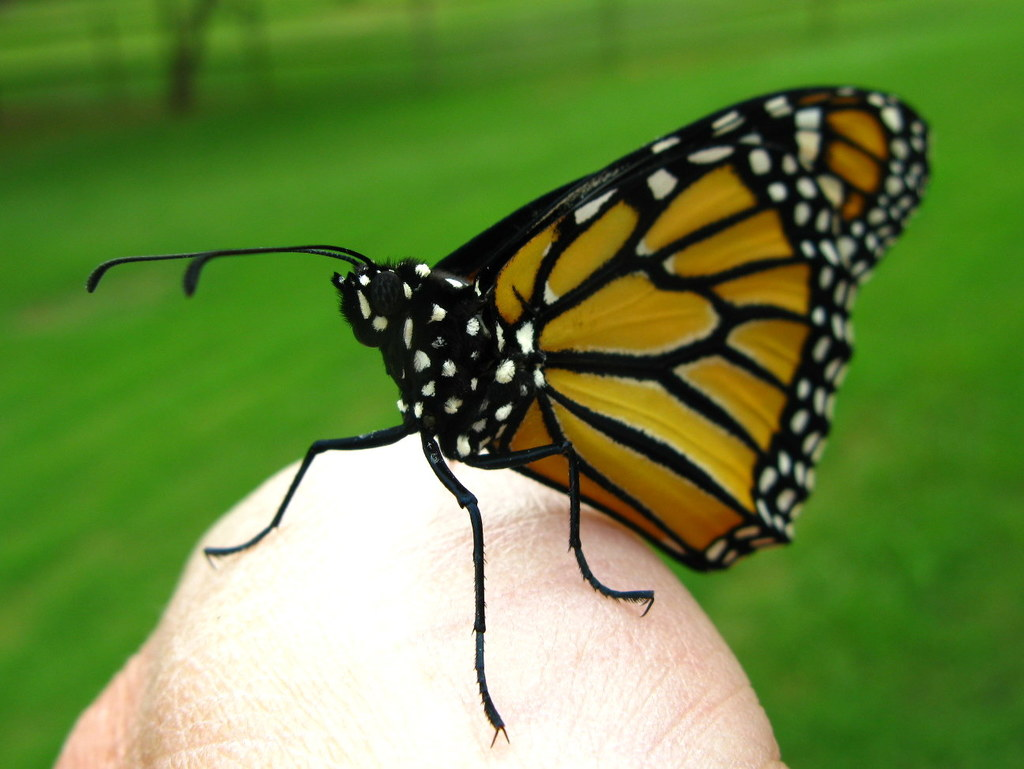Butterfly: (216, 85, 965, 581)
